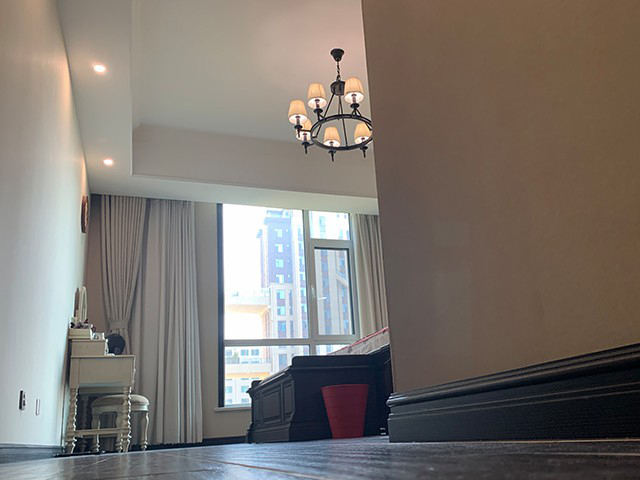curtain: (98, 192, 204, 445)
stool: (244, 353, 381, 444), (88, 394, 150, 456)
table: (63, 286, 136, 456)
trashcan: (319, 382, 371, 439)
